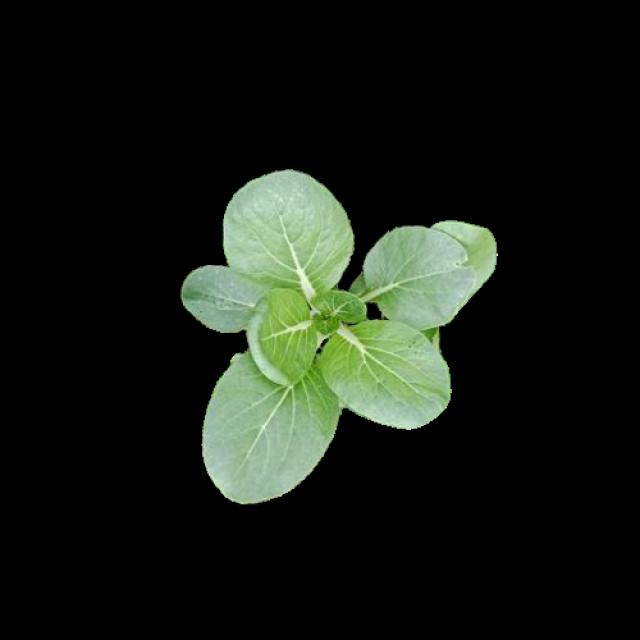healthy: (181, 168, 494, 499)
not-mature: (183, 170, 497, 502)
